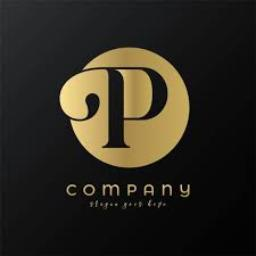p: (54, 59, 174, 157)
